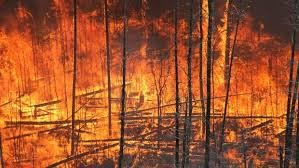fire: (0, 16, 289, 166)
